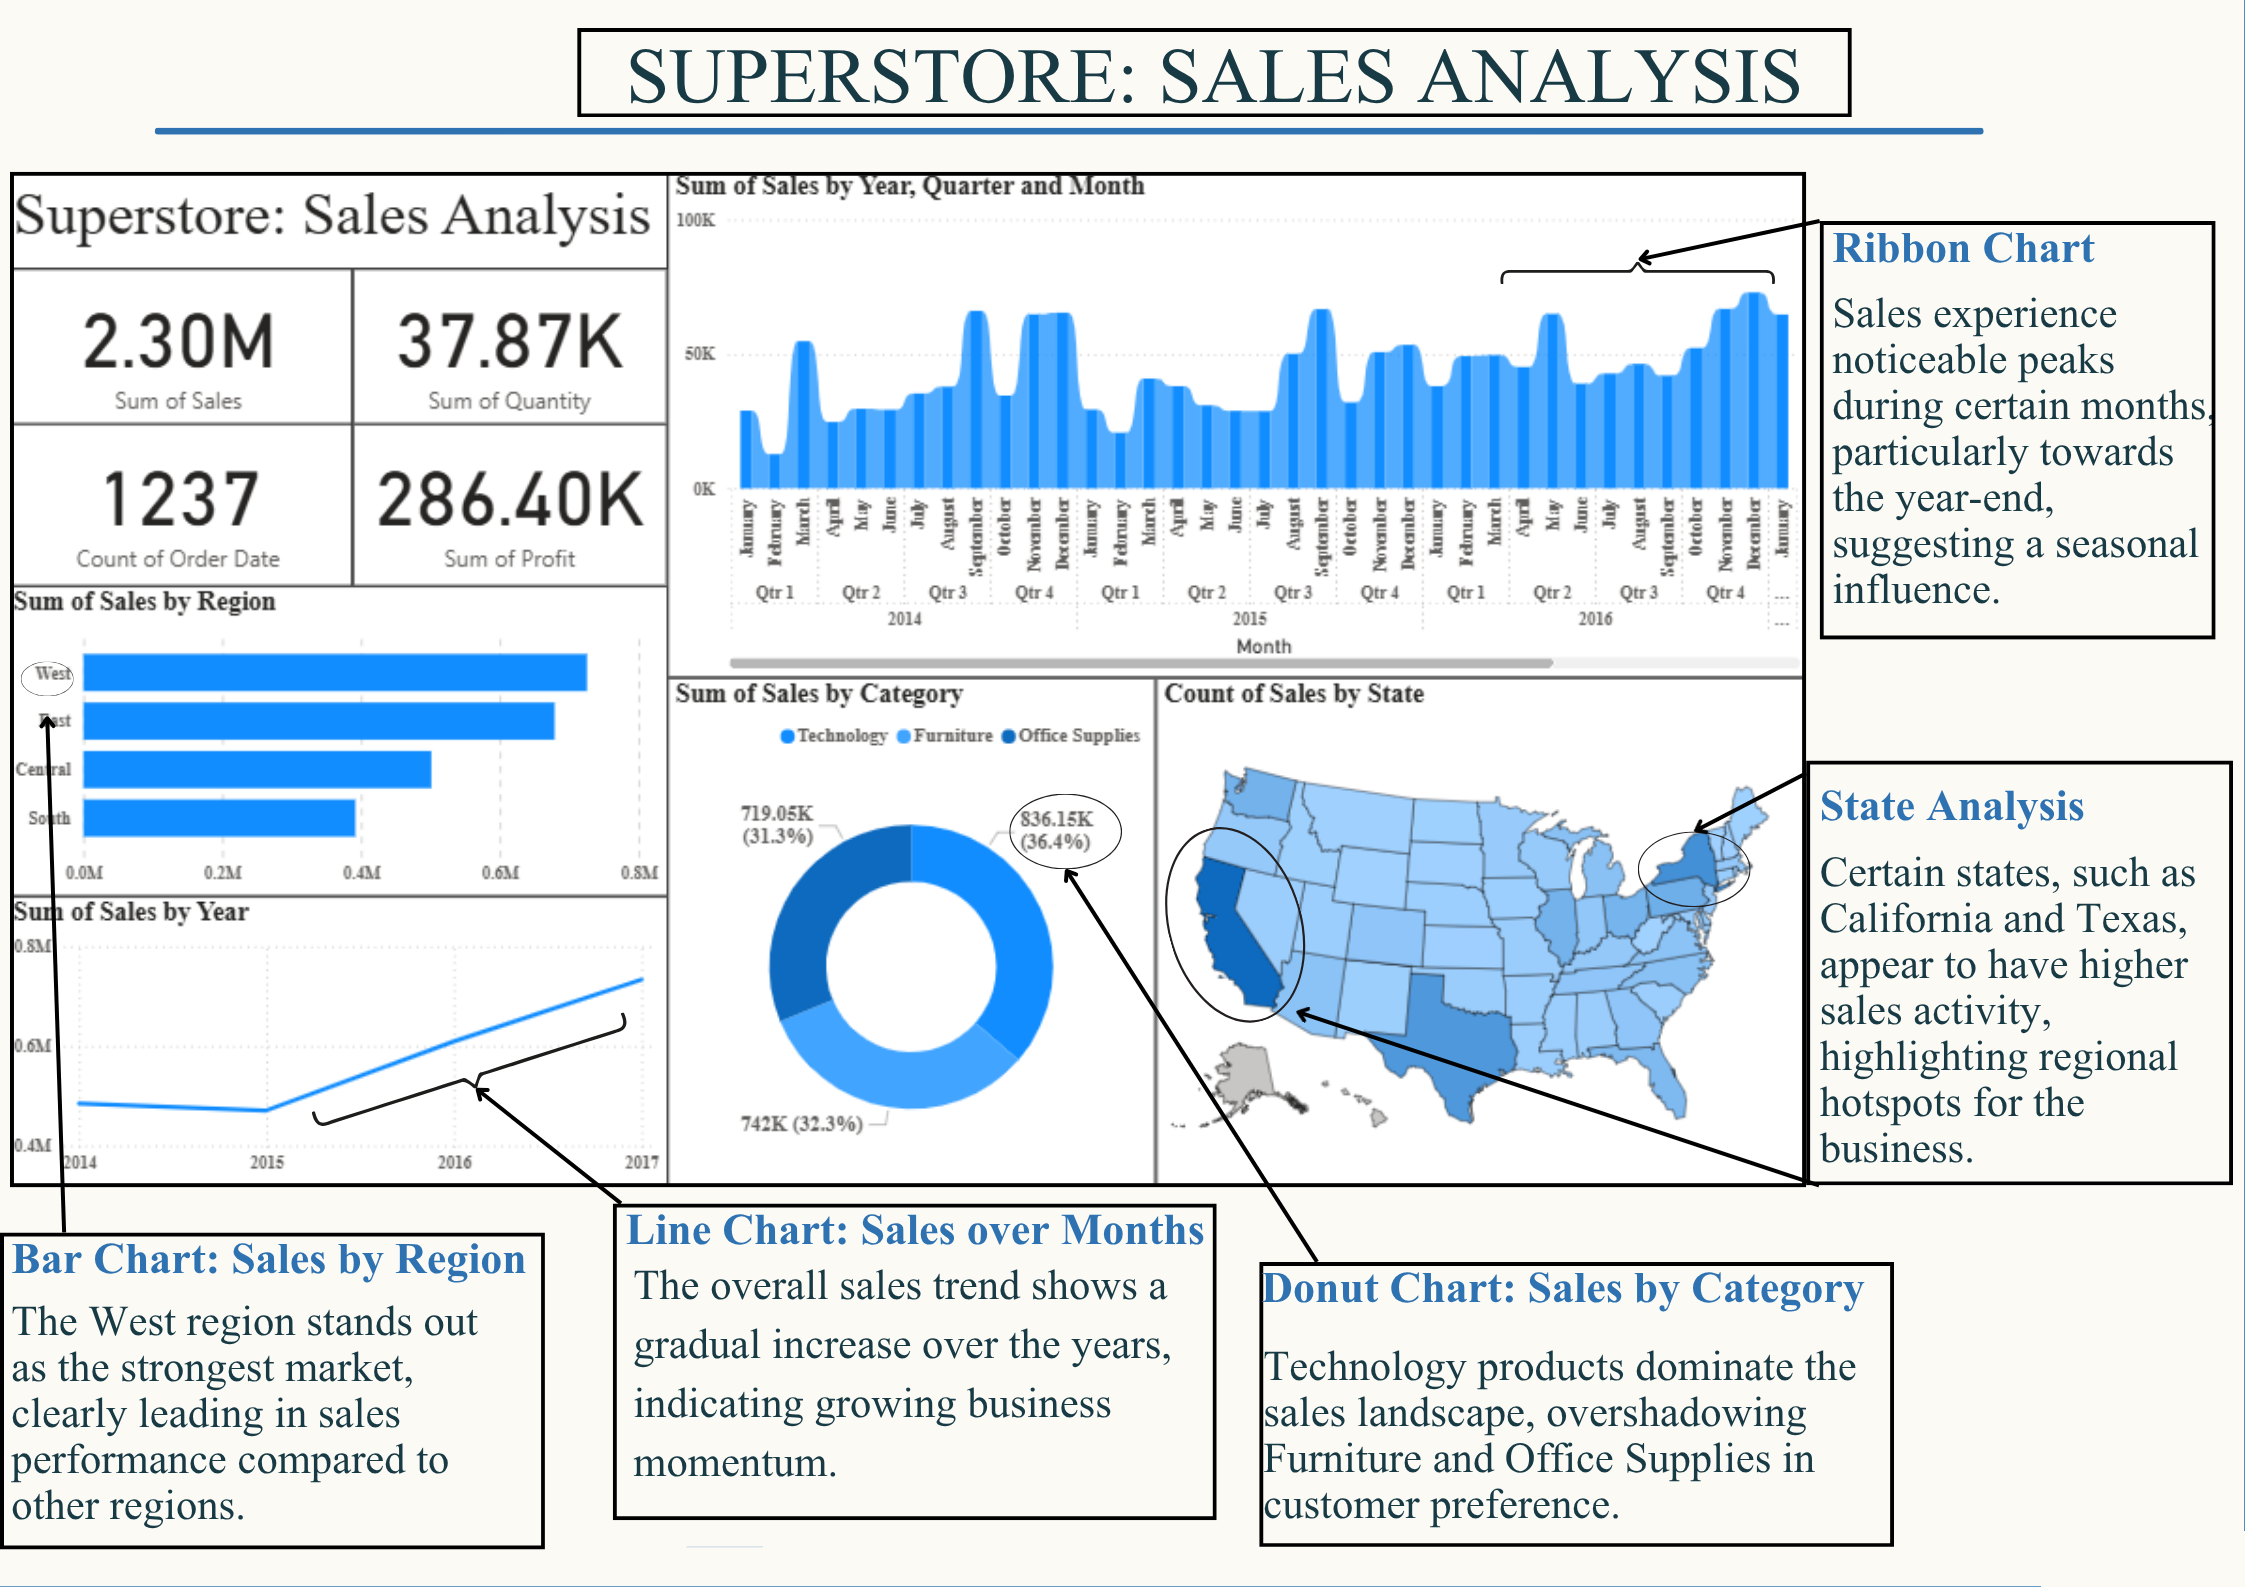

What the dashboard file says about the page in this screenshot:
{"tool":"powerbi","page":{"name":"Page 1","canvas":[1280,720],"ordinal":0},"visuals":[{"type":"lineChart","fields":{"Category":["Sheet1.Month-Year.Variation.Date Hierarchy.Year","Sheet1.Month-Year.Variation.Date Hierarchy.Quarter","Sheet1.Month-Year.Variation.Date Hierarchy.Month","Sheet1.Month-Year.Variation.Date Hierarchy.Day"],"Y":["Sum(Sheet1.Sales)"]},"box":[0,515,470,205],"z":0},{"type":"clusteredBarChart","fields":{"Category":["Sheet1.Region"],"Y":["Sum(Sheet1.Sales)"]},"box":[0,295,470,220],"z":1000},{"type":"donutChart","fields":{"Y":["Sum(Sheet1.Sales)"],"Category":["Sheet1.Category"]},"box":[470,360,346.7,360],"z":2000},{"type":"card","fields":{"Values":["Sum(Sheet1.Sales)"]},"box":[0,70,246.7,110],"z":3000},{"type":"card","fields":{"Values":["Sum(Sheet1.Profit)"]},"box":[246.7,180,223.3,115],"z":4000},{"type":"card","fields":{"Values":["Sum(Sheet1.Quantity)"]},"box":[246.7,70,223.3,110],"z":5000},{"type":"card","fields":{"Values":["Count(Sheet1.Order Date)"]},"box":[0,180,246.7,115],"z":6000},{"type":"shapeMap","fields":{"Category":["Sheet1.State"],"Value":["Count(Sheet1.Sales)"]},"box":[816.7,360,463.3,360],"z":7000},{"type":"ribbonChart","fields":{"Y":["Sum(Sheet1.Sales)"],"Category":["Sheet1.Month-Year.Variation.Date Hierarchy.Year","Sheet1.Month-Year.Variation.Date Hierarchy.Quarter","Sheet1.Month-Year.Variation.Date Hierarchy.Month"]},"box":[470,0,810,360],"z":8000},{"type":"textbox","box":[0,0,470,70],"z":9000}]}

Visuals, with their boxes on the page's 1280x720 design canvas (x1, y1, x2, y2). These are canvas units, not pixel positions in the 2245x1587 screenshot, which may show the page scaled, cropped or inside an application window:
lineChart - Sheet1.Month-Year.Variation.Date Hierarchy.Year x Sheet1.Month-Year.Variation.Date Hierarchy.Quarter: select_region(0, 515, 470, 720)
clusteredBarChart - Sheet1.Region x Sum(Sheet1.Sales): select_region(0, 295, 470, 515)
donutChart - Sum(Sheet1.Sales) x Sheet1.Category: select_region(470, 360, 817, 720)
card - Sum(Sheet1.Sales): select_region(0, 70, 247, 180)
card - Sum(Sheet1.Profit): select_region(247, 180, 470, 295)
card - Sum(Sheet1.Quantity): select_region(247, 70, 470, 180)
card - Count(Sheet1.Order Date): select_region(0, 180, 247, 295)
shapeMap - Sheet1.State x Count(Sheet1.Sales): select_region(817, 360, 1280, 720)
ribbonChart - Sum(Sheet1.Sales) x Sheet1.Month-Year.Variation.Date Hierarchy.Year: select_region(470, 0, 1280, 360)
textbox: select_region(0, 0, 470, 70)
